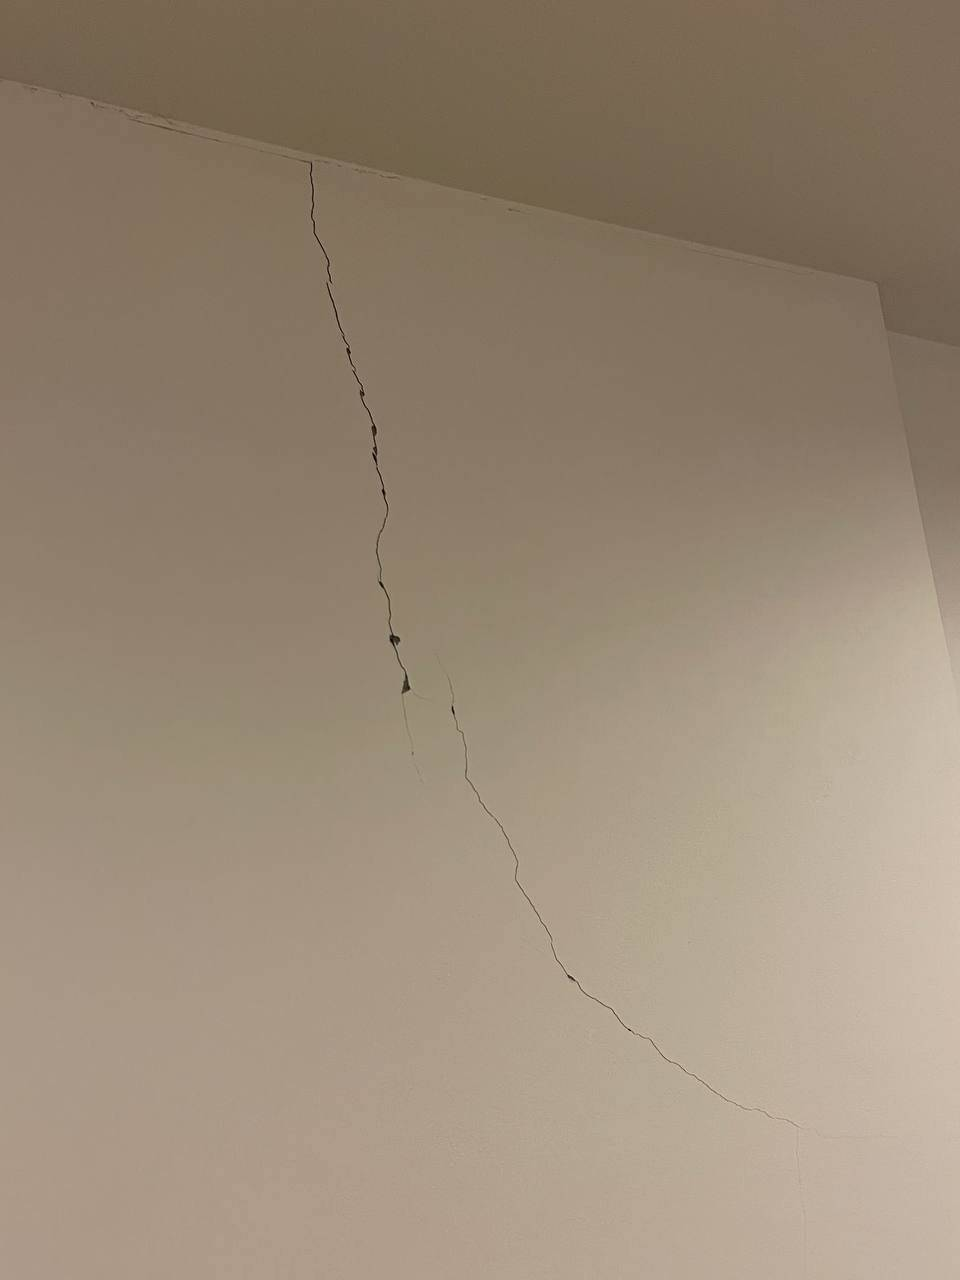Low: (236, 141, 917, 1226)
